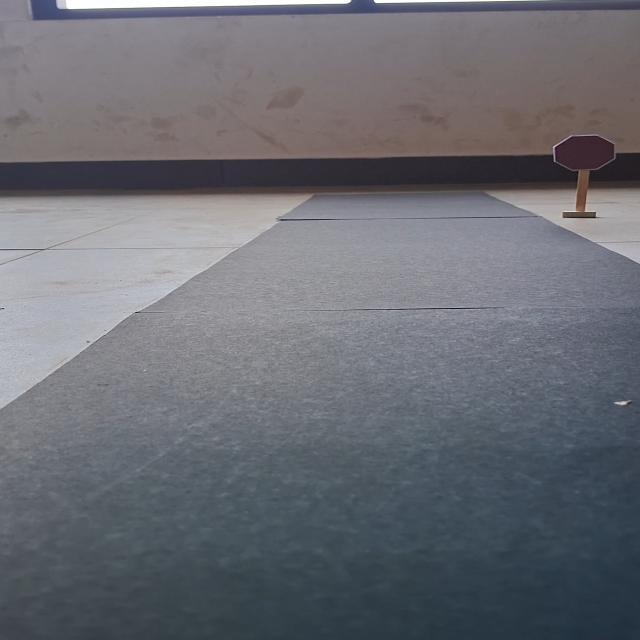Stop: (552, 134, 616, 171)
